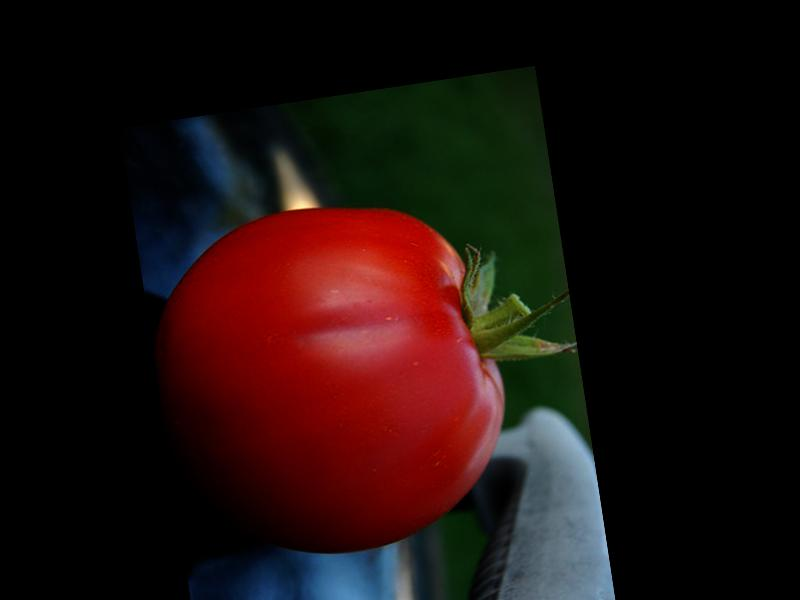Tomato: (135, 182, 524, 577)
